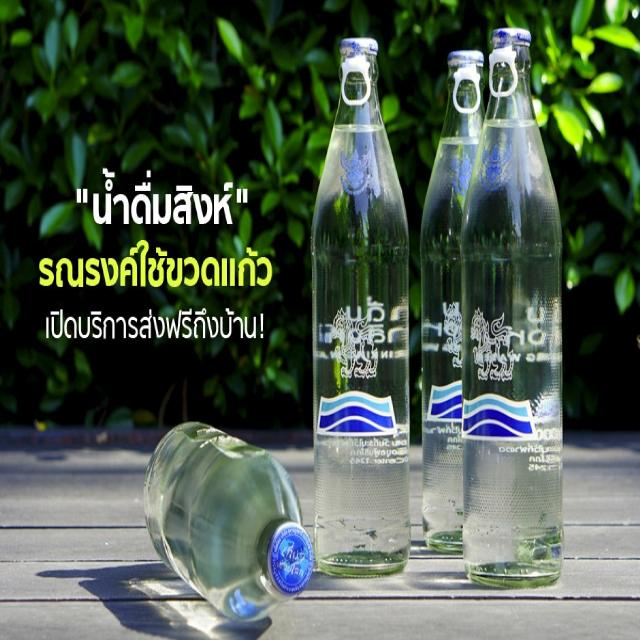glass-bottle: (457, 21, 575, 602), (304, 26, 416, 593)
